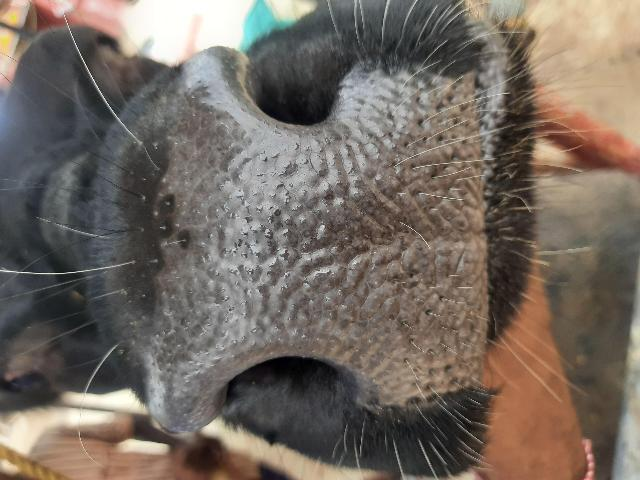Muzzle: (182, 119, 480, 357)
